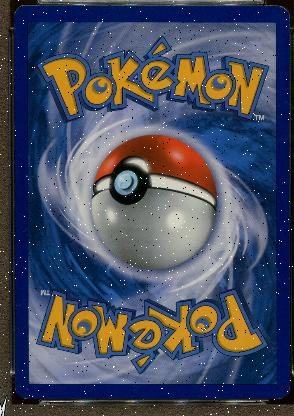Edge Wear: (13, 382, 30, 400)
